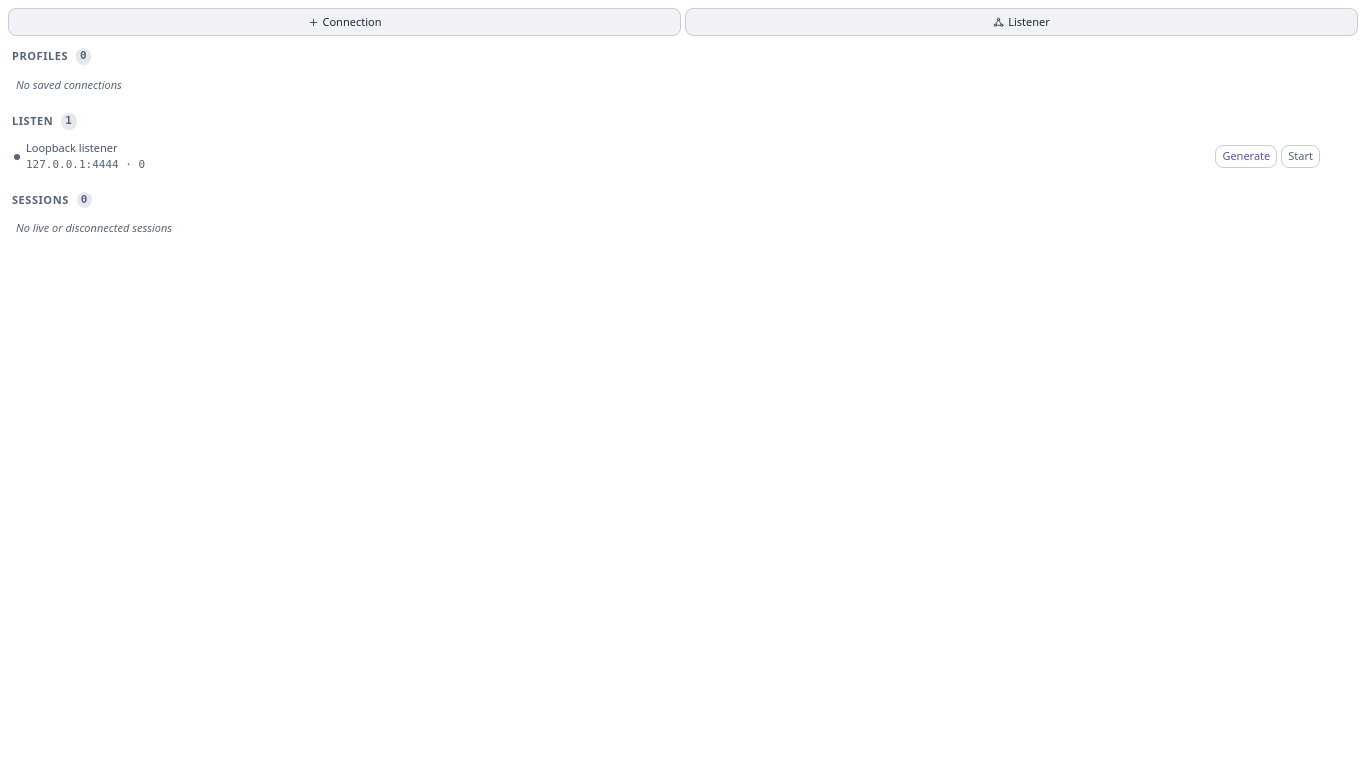
Test: ShellsTab › opens the Connect Builder from a listener
This screenshot has width=1366, height=768.
Click the button "Generate".
click(1246, 157)  # box left=1215, top=145, right=1277, bottom=168
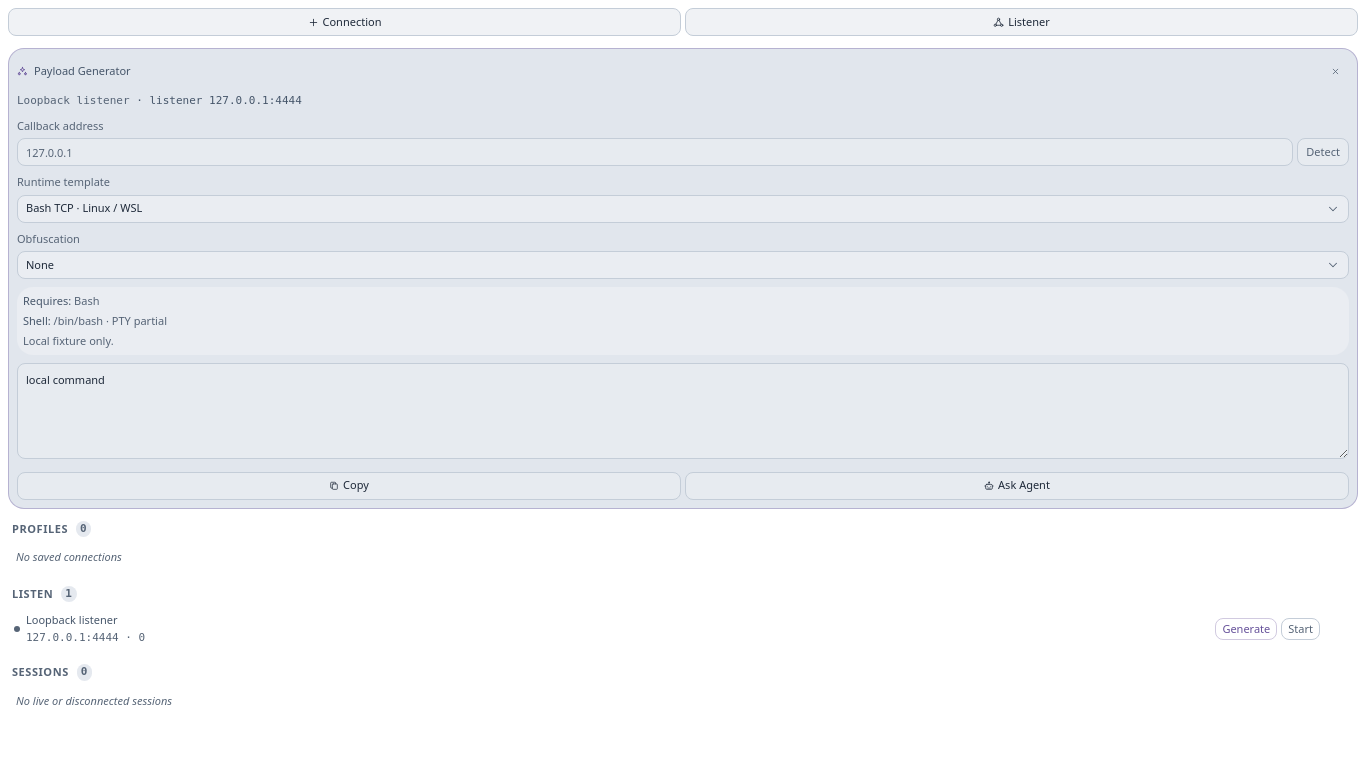
Expected: the element "Payload Generator" is shown, left=8, top=48, right=1358, bottom=508
Expected: the text box named "Generated connection command" holds "local command", left=17, top=363, right=1349, bottom=459
